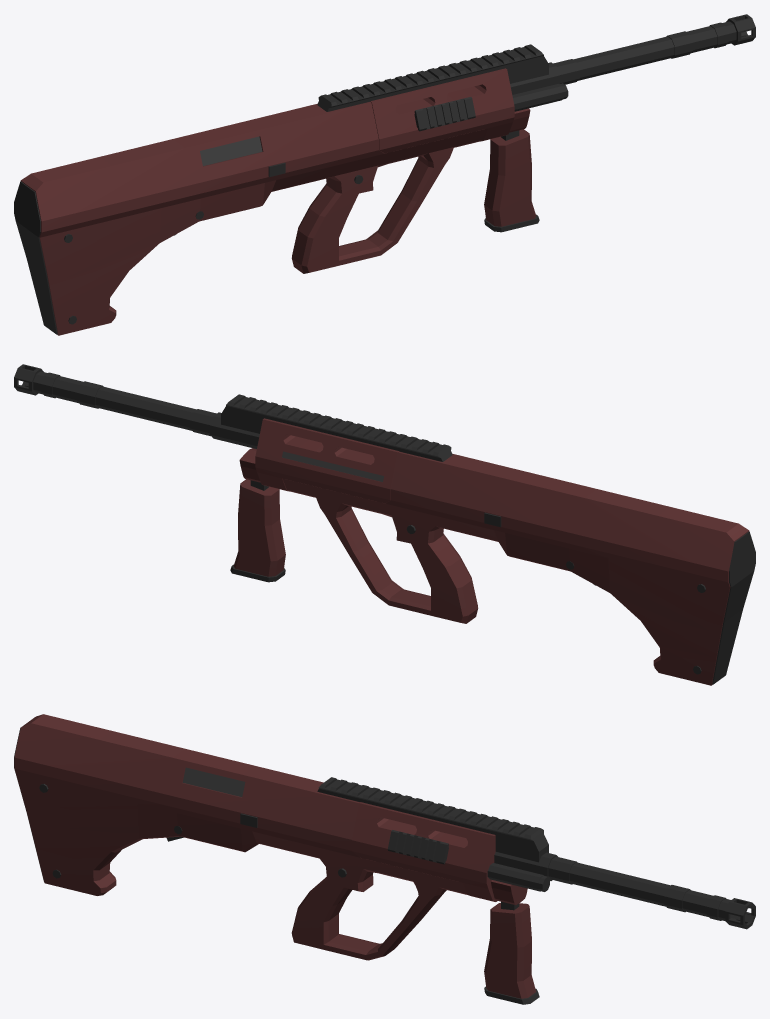
Rendered from AssaultRifle2_05.fbx.
3 renders of one model, top to bottom at view 1: azimuth 30°, elevation 25°; view 2: azimuth 150°, elevation 25°; view 3: azimuth 330°, elevation 25°, orthographic.
Visible parts, largest first — view 1: AssaultRifle2_05; view 2: AssaultRifle2_05; view 3: AssaultRifle2_05.
Boxes of the visible parts, x1=… form: AssaultRifle2_05: x1=14, y1=14, x2=755, y2=335; AssaultRifle2_05: x1=14, y1=364, x2=755, y2=685; AssaultRifle2_05: x1=14, y1=714, x2=755, y2=1004.
Bounding box in the file's own units: 0.9551 × 0.2132 × 0.0697.
